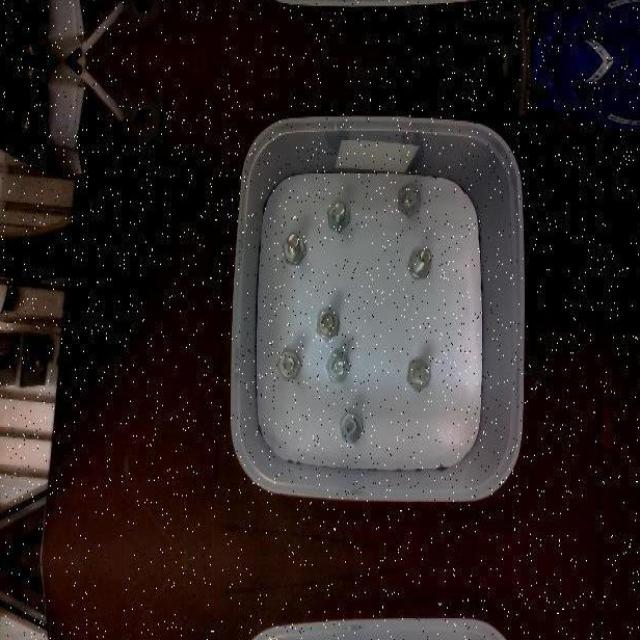screw: (405, 358, 430, 392), (397, 182, 420, 218), (316, 306, 340, 340), (338, 410, 362, 444), (276, 348, 302, 379), (406, 247, 431, 279), (325, 350, 350, 382), (327, 198, 350, 232), (284, 232, 306, 265)
